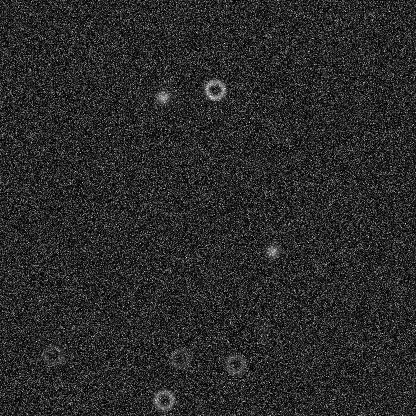Ring: (41, 343, 65, 367), (202, 77, 226, 101), (223, 352, 247, 376), (168, 346, 192, 370), (151, 387, 175, 411)
Spot: (264, 242, 280, 258), (154, 89, 170, 105), (256, 319, 272, 335)
